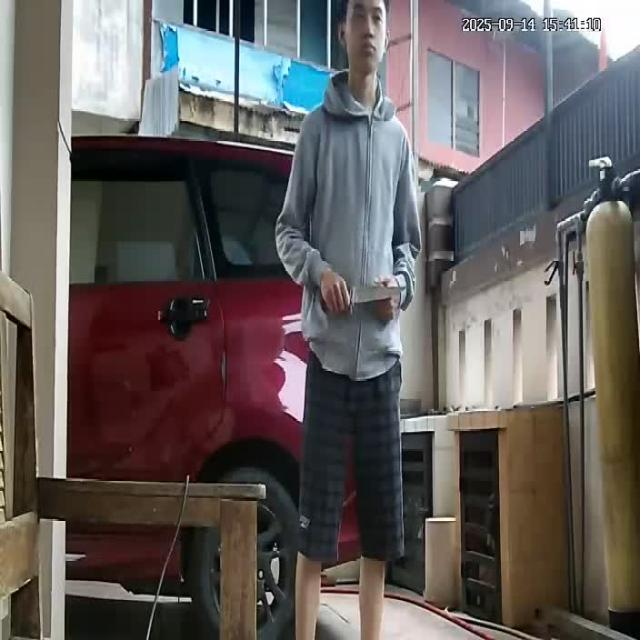senjata_tajam: (348, 283, 411, 313)
